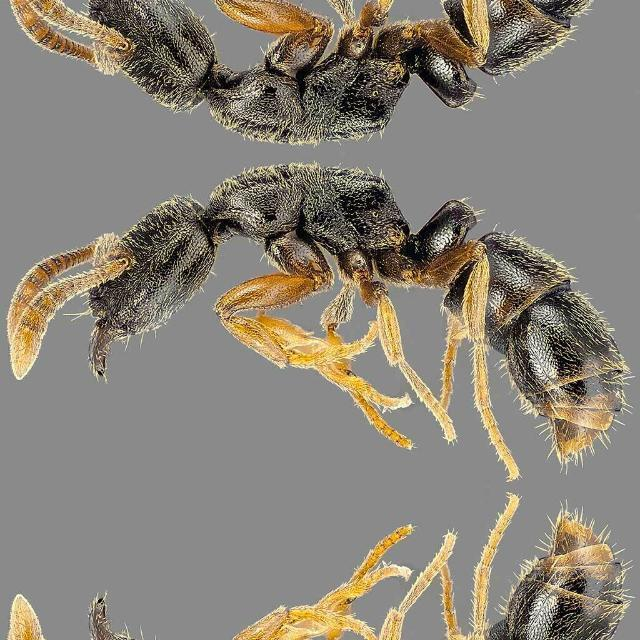Ponera: (0, 154, 640, 484), (0, 0, 640, 152), (0, 488, 640, 640)
